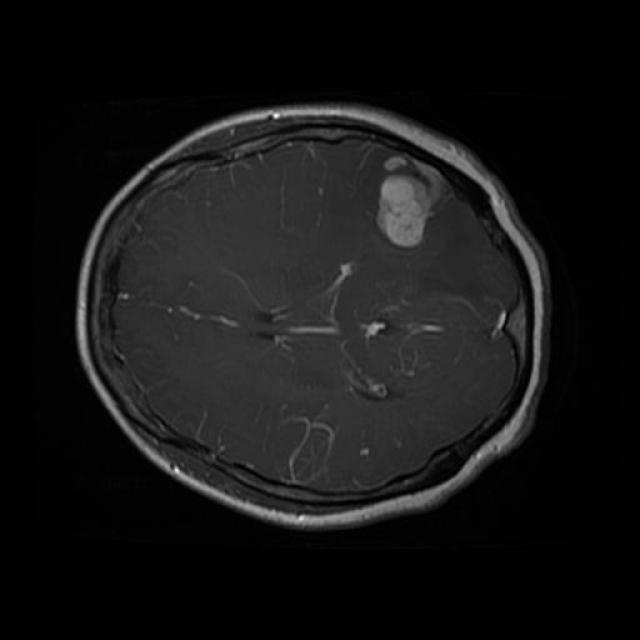Glioma: (376, 154, 442, 247)
